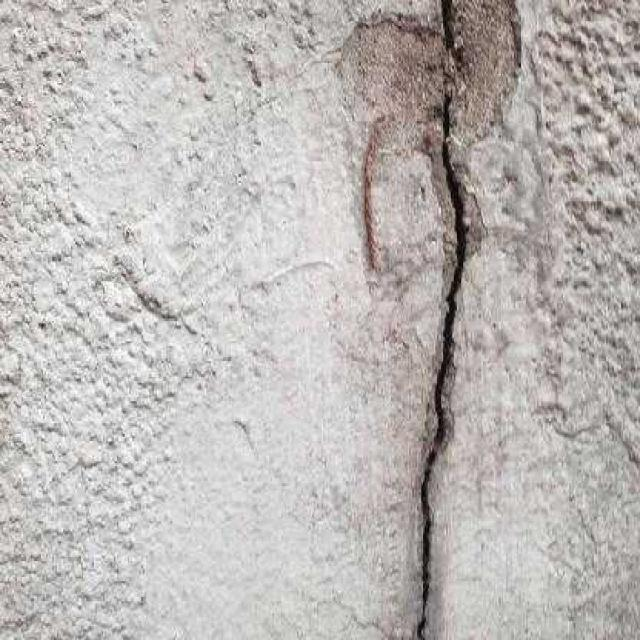D00: (417, 0, 467, 640)
